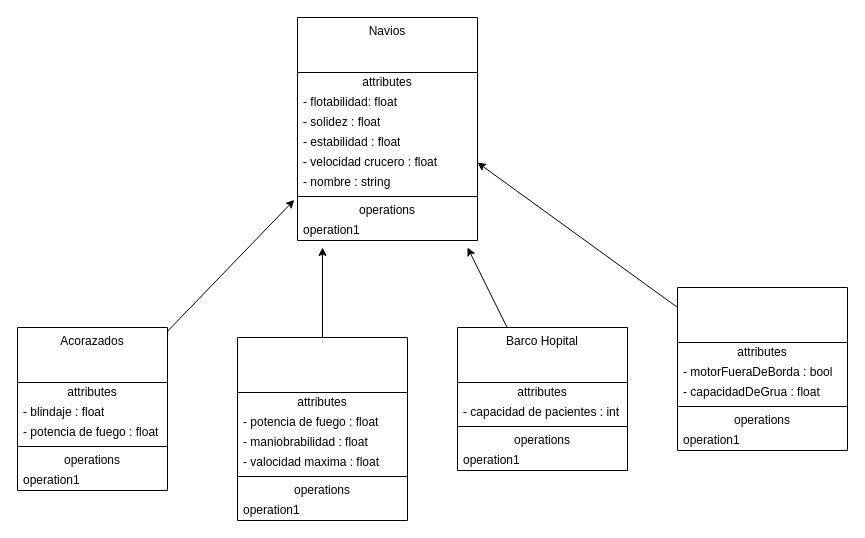
Some shapes in this 865 by 538 pixel diagram are drawn without their labels. Here are the shapes that lost their labels. From the top down, the box of each, then its label:
(676, 286, 848, 450): LanchaMedica
(236, 336, 408, 520): Destructores
